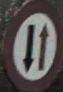Two way: (6, 9, 60, 83)
